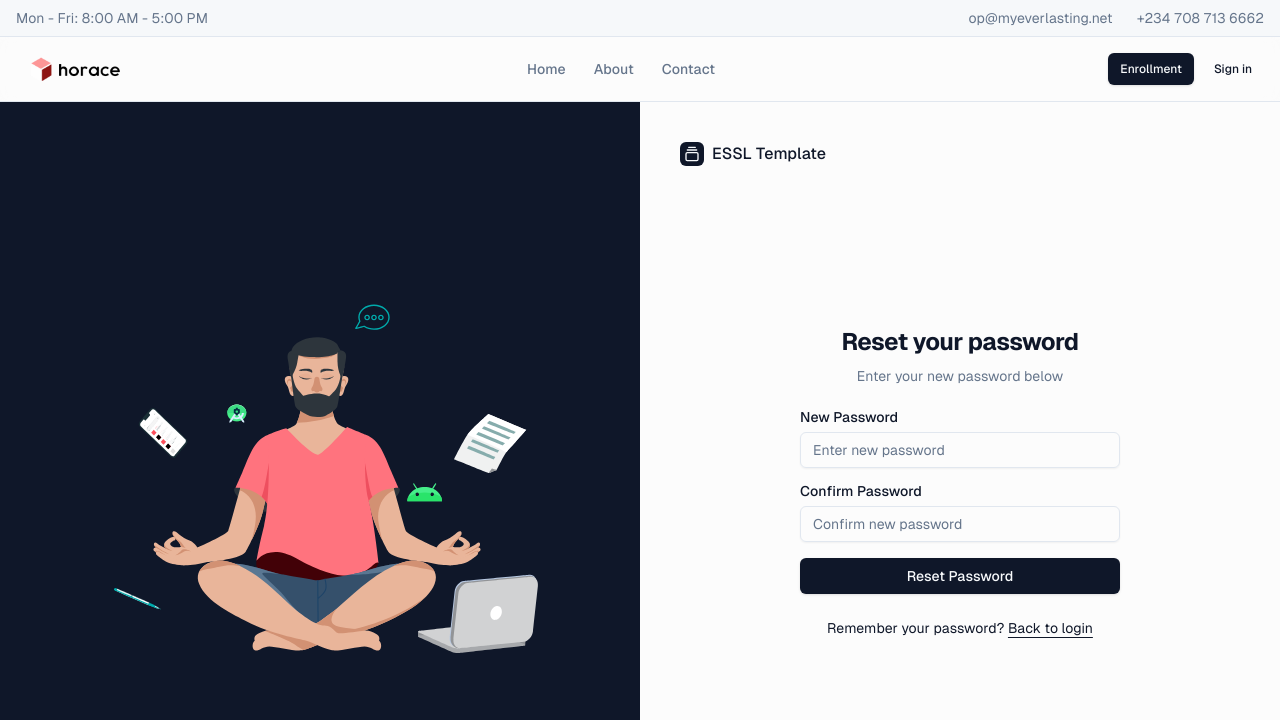
Test: Reset password page › Reset password flow (with token in URL) › shows error for password too short (min 4 chars)
Type "123" into the password field named "password". click: (960, 450)
box: 800,432 -> 1120,468
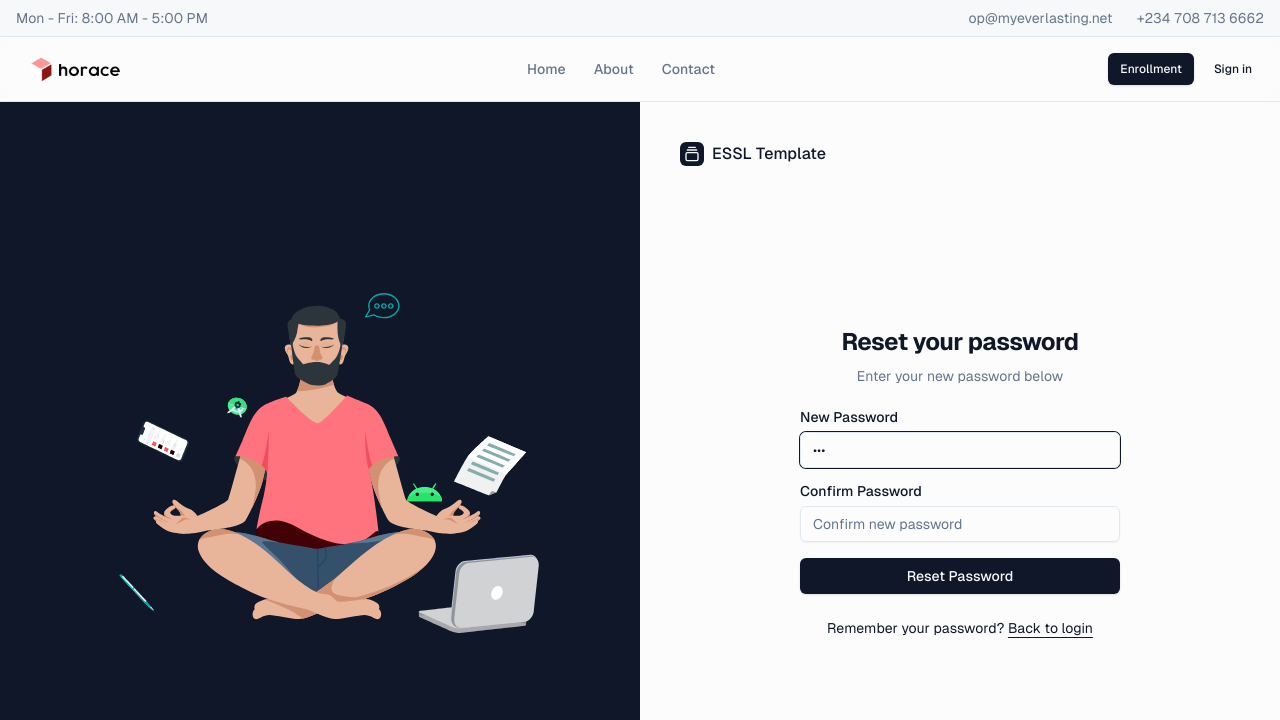
Type "123" into the password field named "confirmPassword". click: (960, 524)
box: 800,506 -> 1120,542
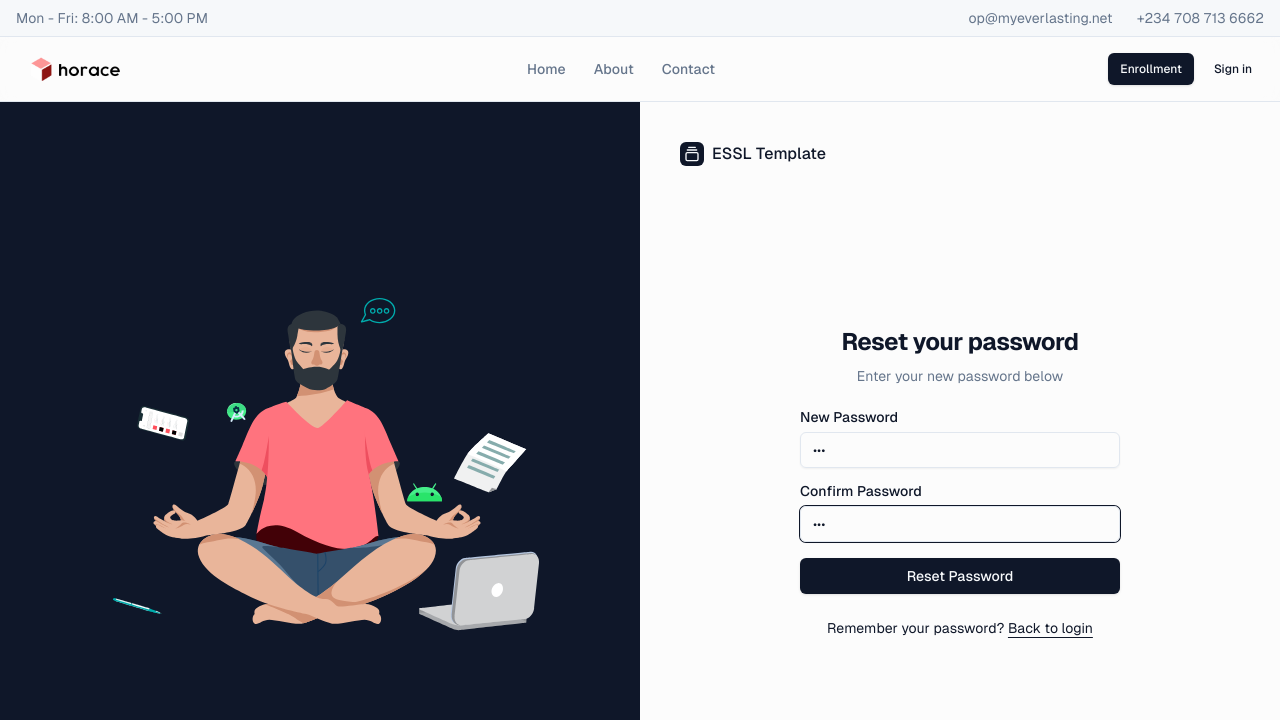
Click the button "Reset Password". click: (960, 576)
box: 800,558 -> 1120,594
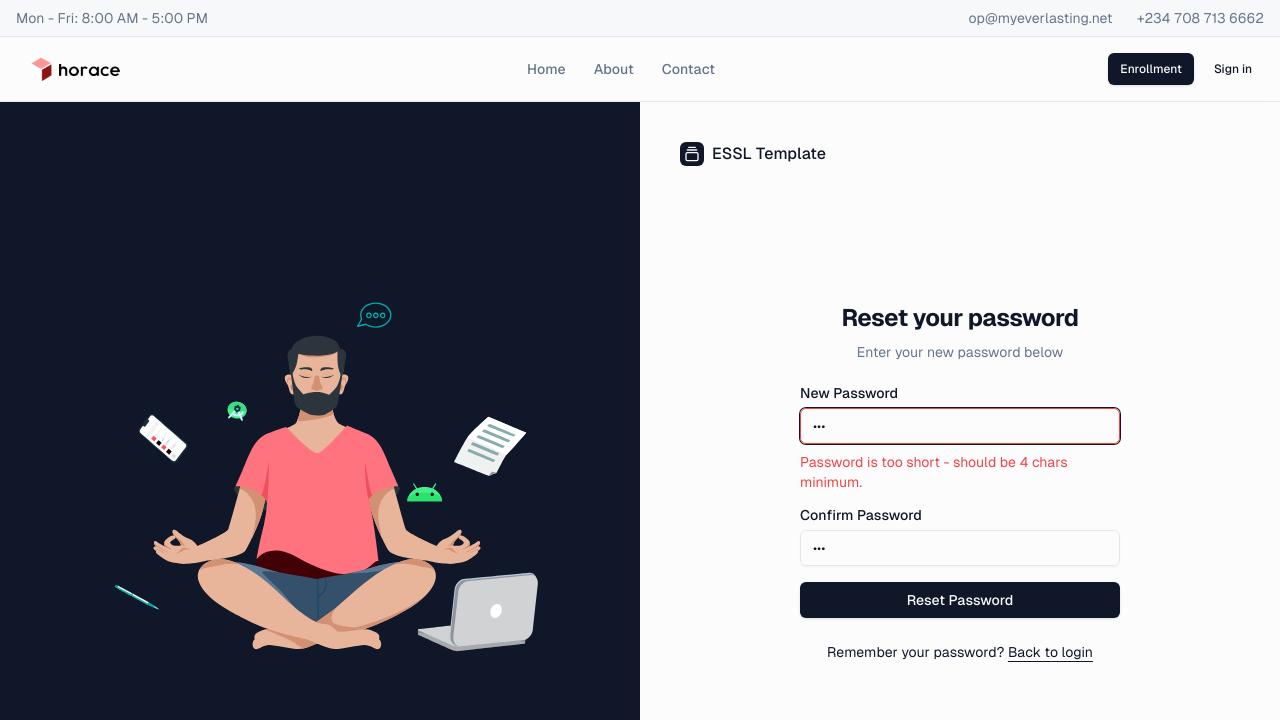
Check: the text "Password is too short - should be 4 chars minimum." is shown, box 800,454 -> 1068,490
